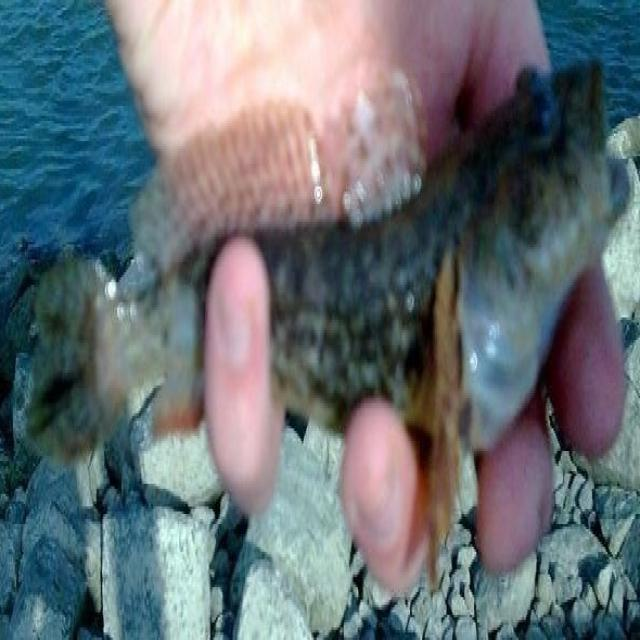Goby: (19, 51, 640, 516)
